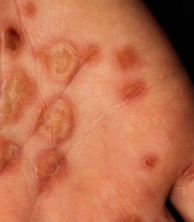SJS-TEN: (0, 19, 106, 200), (109, 36, 155, 108)
